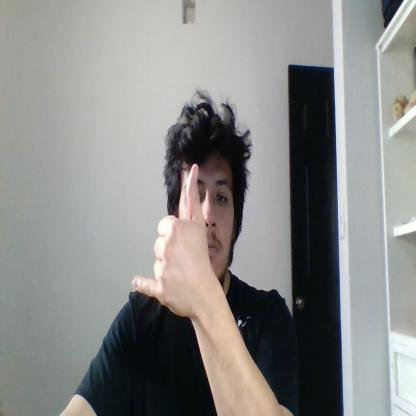Y: (132, 163, 210, 317)
